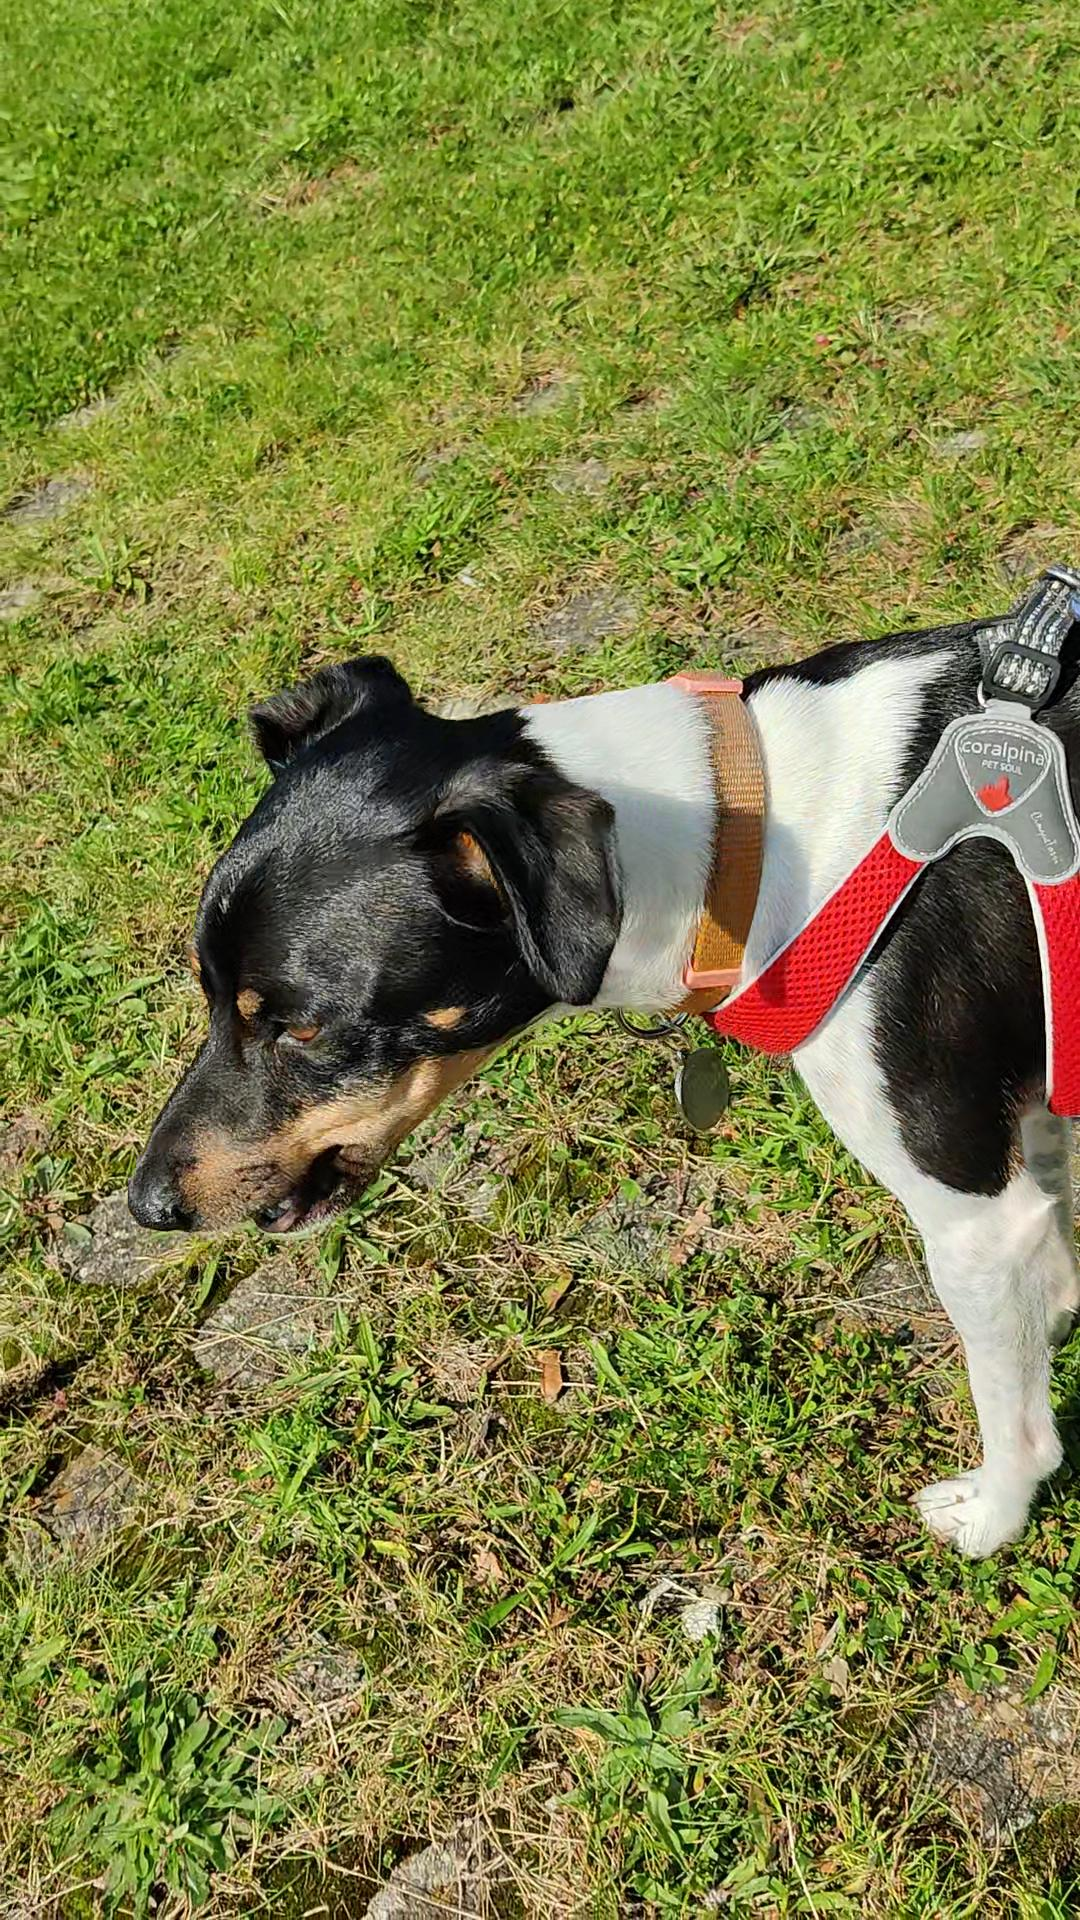Dog: (111, 545, 1079, 1563)
